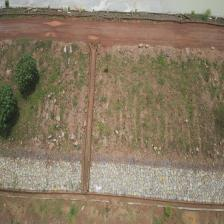rock toe: (89, 160, 224, 203), (0, 156, 84, 193)
slope drain: (82, 43, 98, 194)
